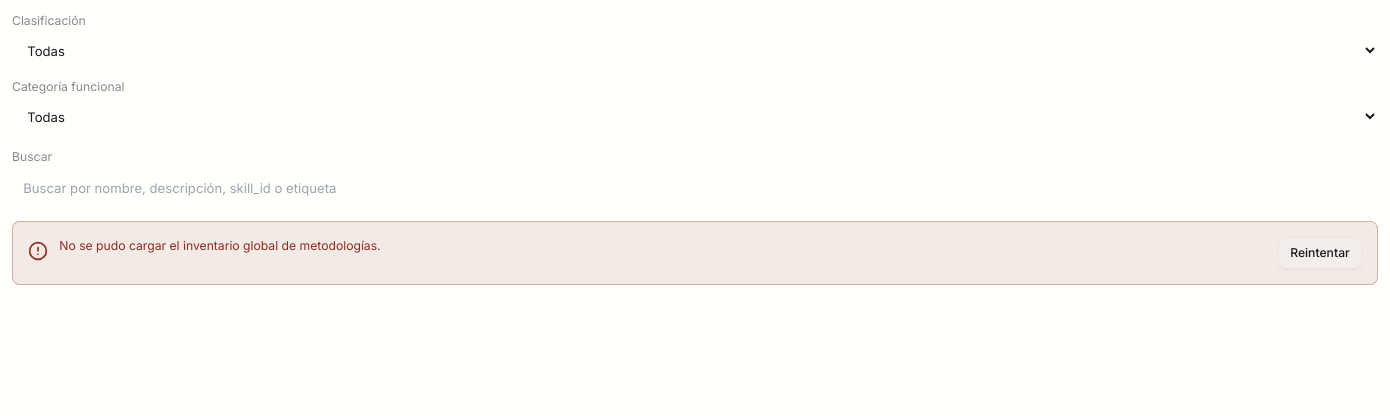
Test: GlobalMethodologyLibrary — list render (REQ-LIB-2) › shows an error banner and retries the request (REQ-LIB-2 S2)
The width and height of the screenshot is (1390, 416).
Expected: the message "No se pudo cargar el inventario global de metodologías. Reintentar" is shown, [12,221,1378,285]
Expected: the text "No se pudo cargar el inventario global de metodologías." is shown, [59,238,381,253]
Click the button "Reintentar".
click(1320, 253)  # box [1278,237,1362,269]
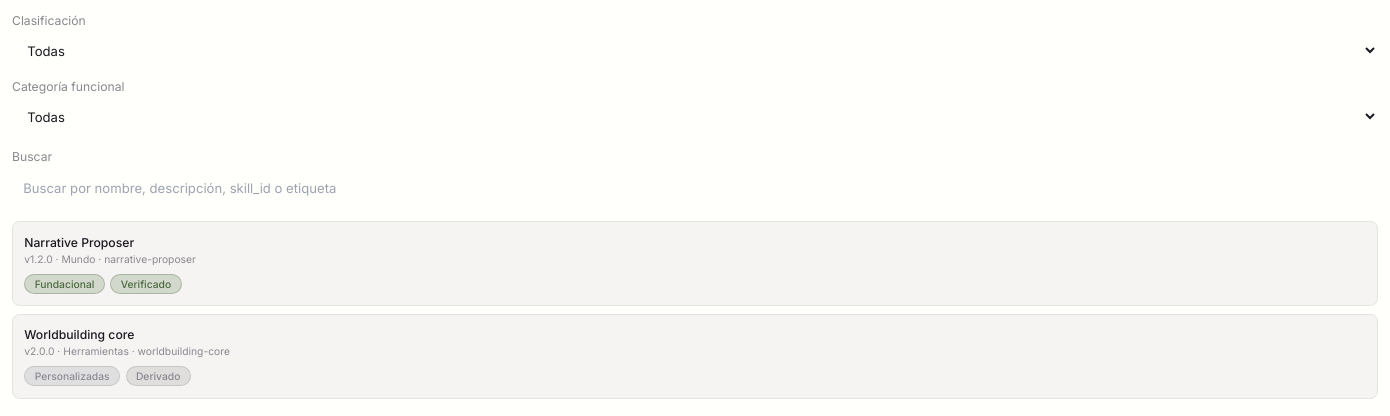
Expected: the text "Narrative Proposer" is shown, [24,235,134,250]
